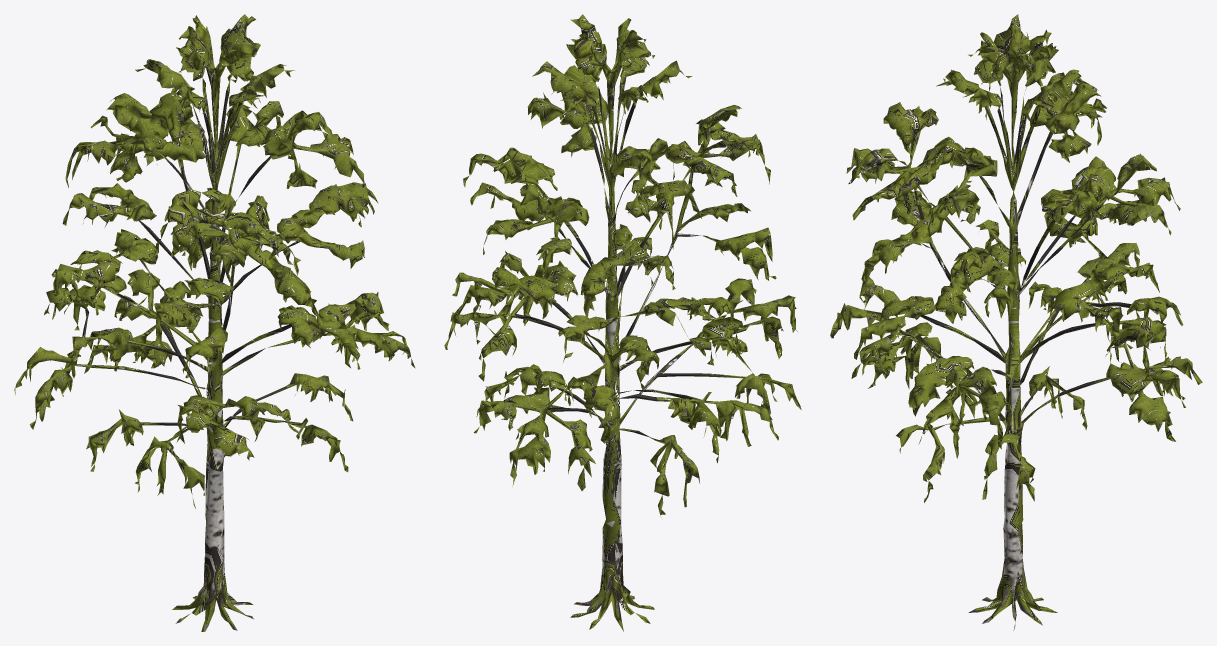
Rendered from birch.glb.
3 views of the same model, side by side, from view 1: azimuth 30°, elevation 25°; view 2: azimuth 150°, elevation 25°; view 3: azimuth 270°, elevation 25° (orthographic).
Size of the model in its own units: 3.88 by 6.39 by 3.67.
Materials: 1 (1 with a texture image).
